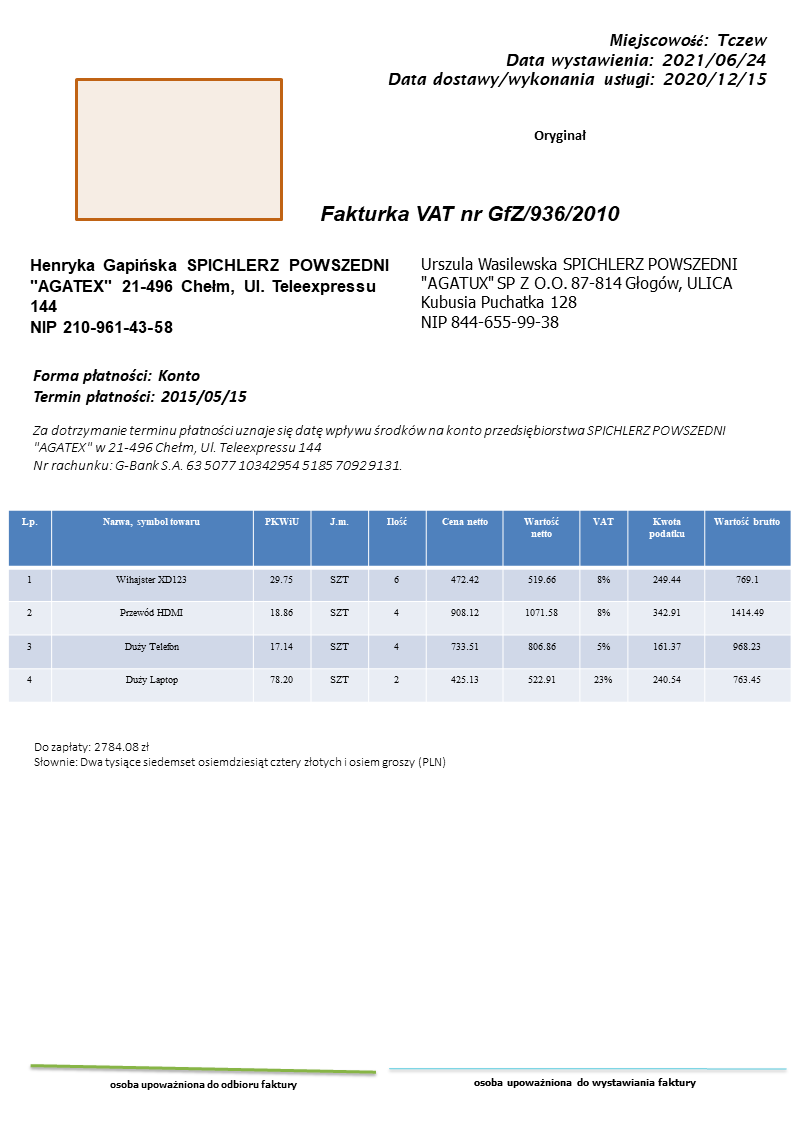Table: (6, 508, 793, 704)
TextBox: (30, 421, 728, 474), (27, 255, 391, 338), (417, 252, 740, 334), (383, 28, 770, 91), (30, 738, 449, 771), (30, 366, 249, 408), (316, 198, 622, 226), (471, 1075, 699, 1091), (106, 1077, 299, 1092), (531, 127, 589, 146)
